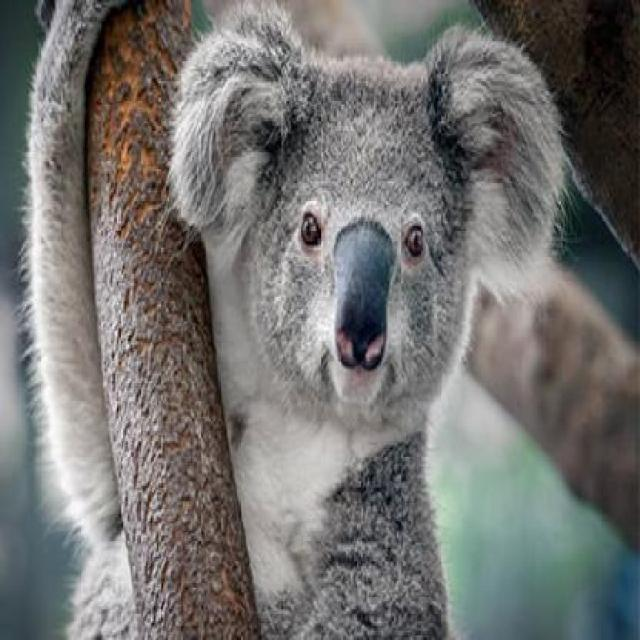Koala: (166, 32, 576, 633)
